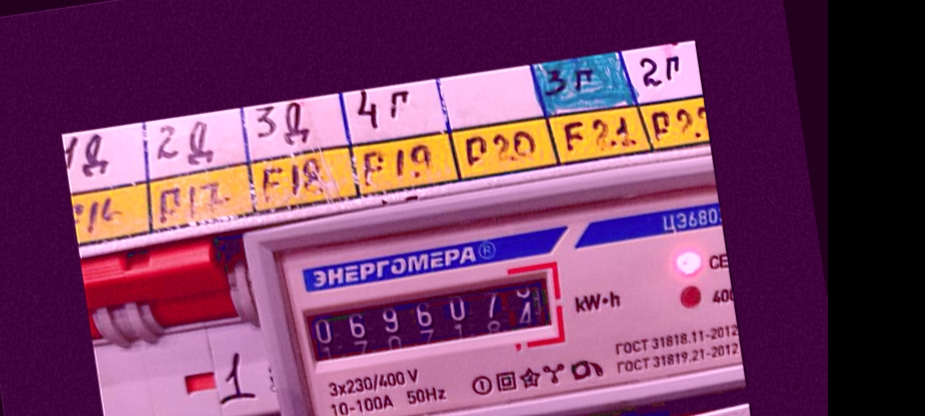0: (444, 294, 466, 326), (311, 318, 332, 348)
4: (512, 299, 533, 330)
6: (411, 300, 432, 331), (344, 312, 365, 342)
7: (477, 290, 501, 323)
9: (377, 307, 399, 337)
screen: (285, 259, 572, 383)
